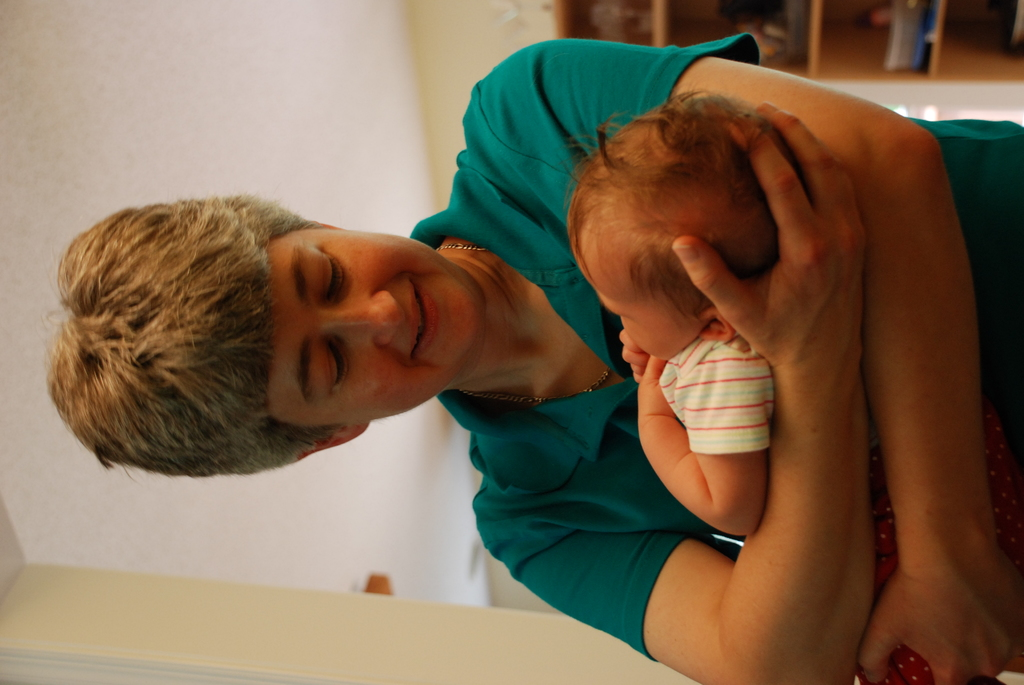Person: (561, 89, 996, 684)
